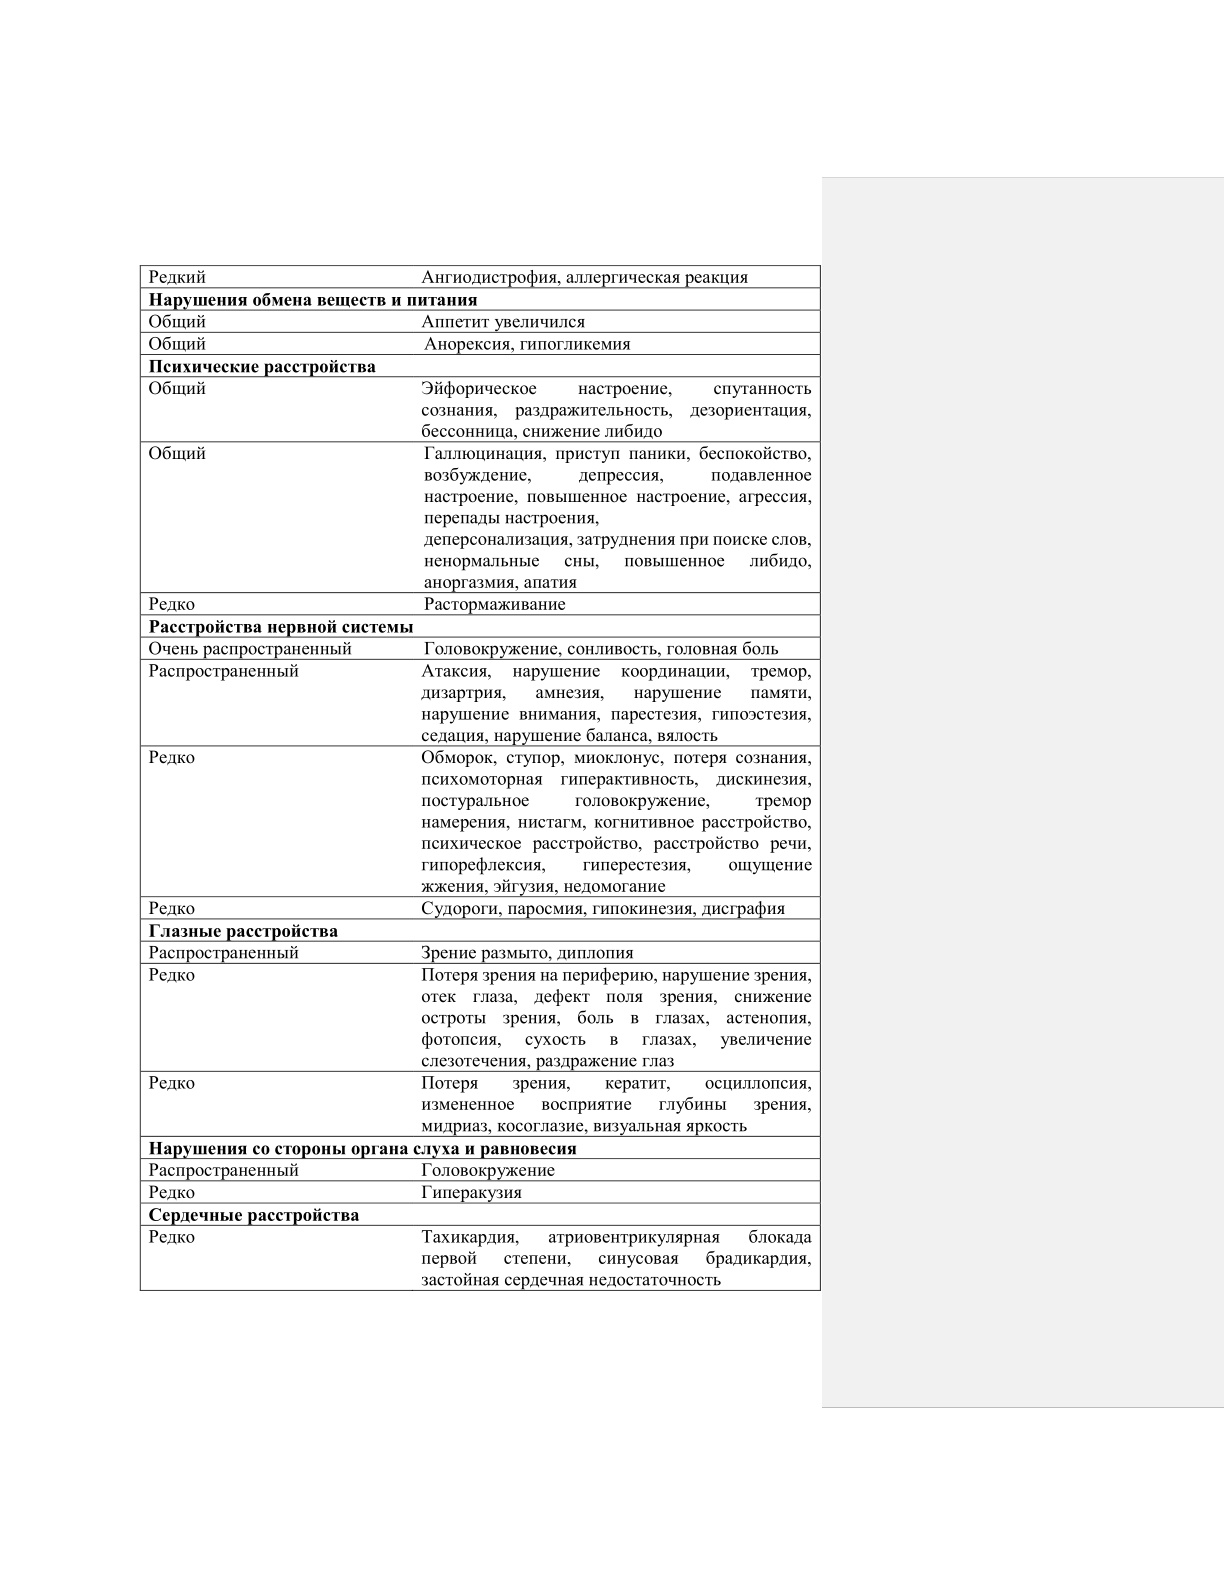partial_lined: (138, 264, 824, 1295)
